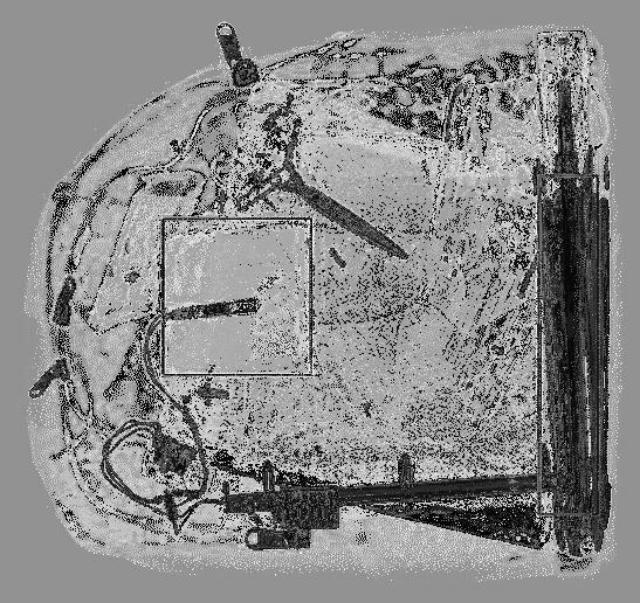Knife: (230, 118, 408, 262)
